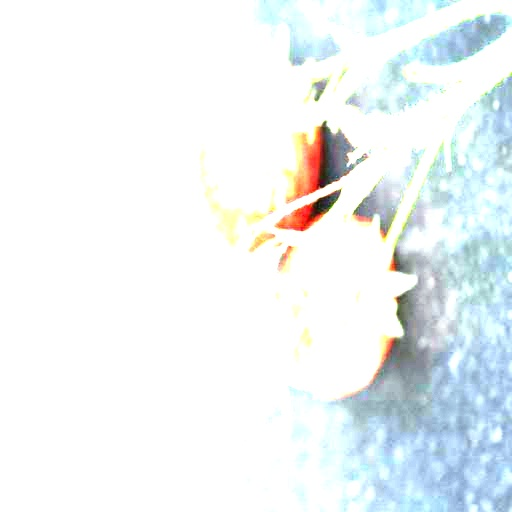Gray Mold: (193, 236, 293, 352)
